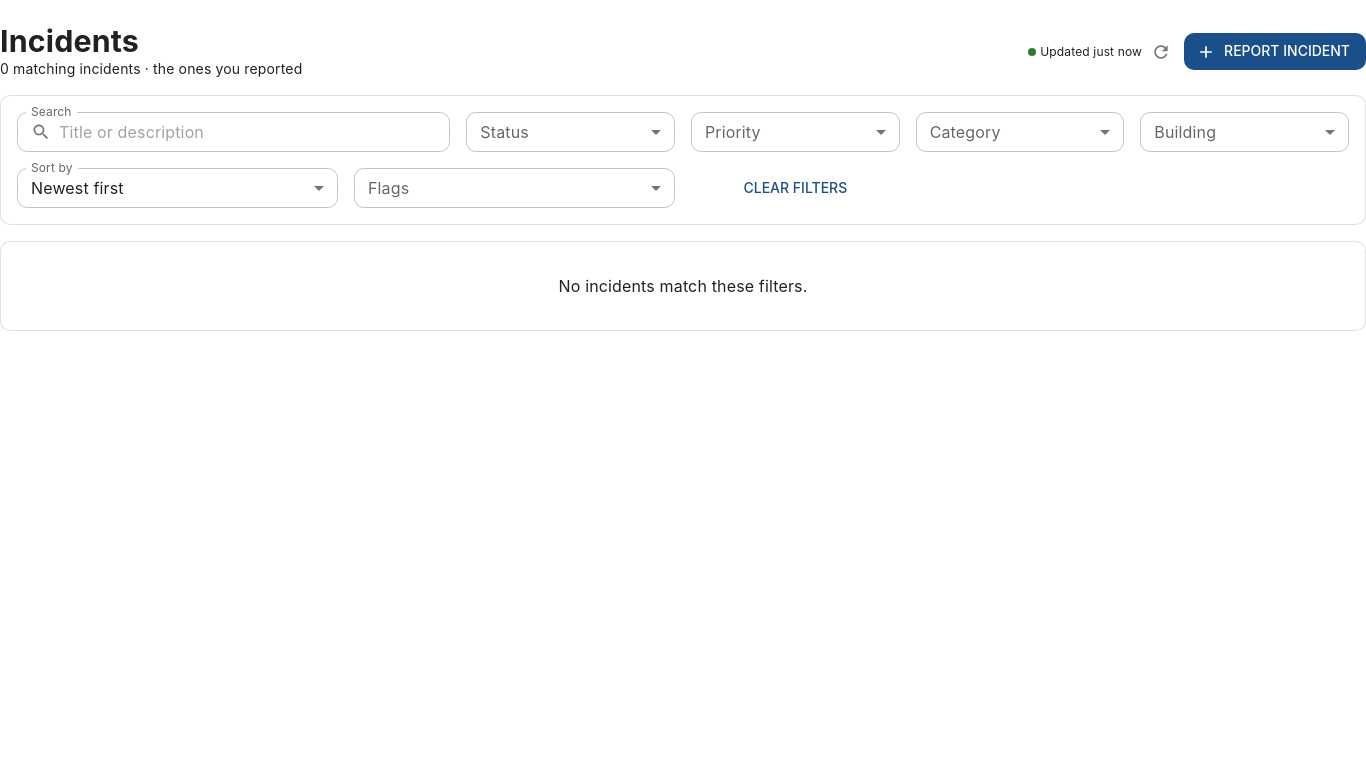
naming the failed unit while reporting › offers the equipment field even before a location is chosen
Click the button "Report incident" at (1275, 52), box [1184, 34, 1365, 70]
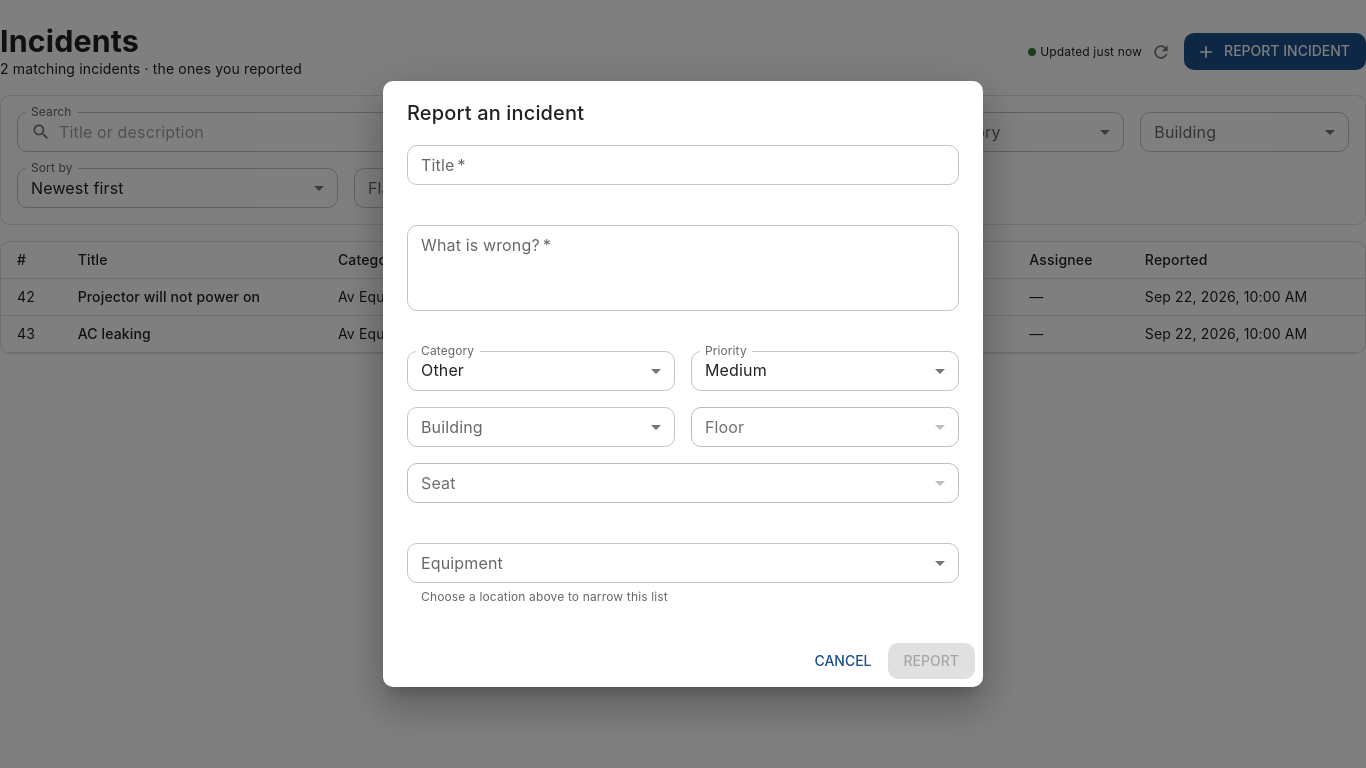
Expected: the 4th dropdown named "Equipment" is shown, [407, 543, 959, 583]
Expected: the text "Choose a location above to narrow this list" is shown, [421, 589, 668, 604]
